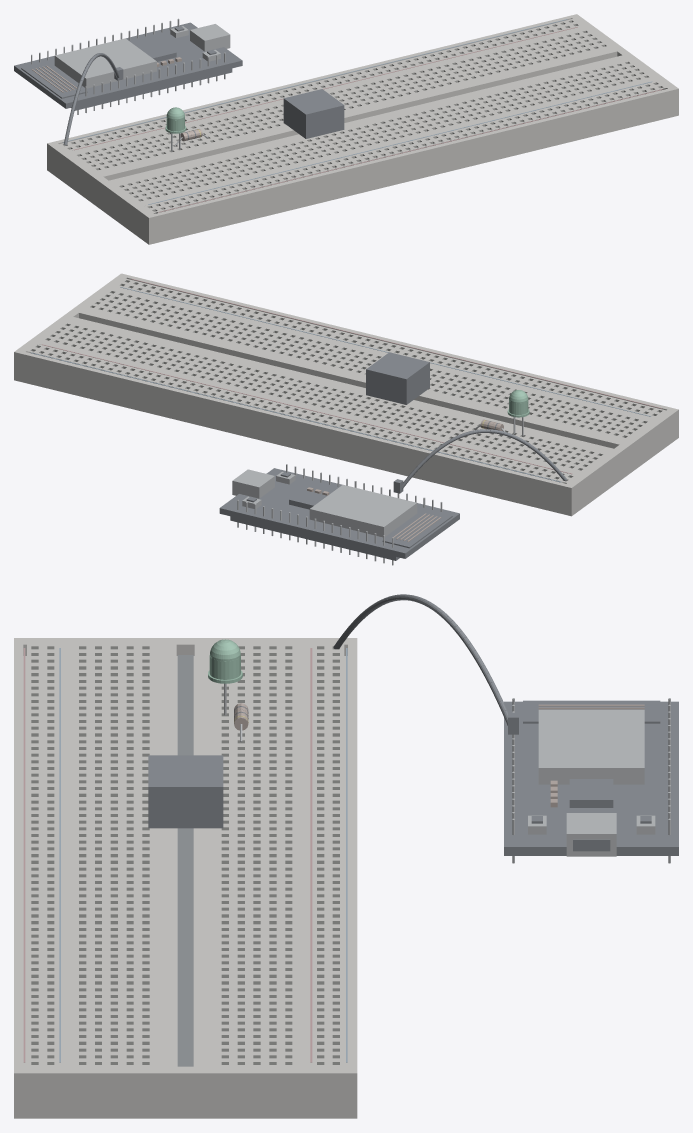
The model's file is step-5.glb.
The picture shows the model from 3 angles, top to bottom: view 1: azimuth 30°, elevation 25°; view 2: azimuth 150°, elevation 25°; view 3: azimuth 270°, elevation 25°; orthographic projection. The views are drawn at different scales.
Visible parts, largest first — view 1: breadboard__mesh, uno__mesh, button__mesh, ground_feed__mesh, green_led__mesh; view 2: breadboard__mesh, uno__mesh, button__mesh, ground_feed__mesh, green_led__mesh; view 3: breadboard__mesh, uno__mesh, button__mesh, ground_feed__mesh, green_led__mesh.
Part boxes in pixels (box(x1,y1,x2,y2)): breadboard__mesh: box(47, 14, 678, 244); uno__mesh: box(14, 18, 242, 114); button__mesh: box(283, 89, 344, 138); ground_feed__mesh: box(63, 53, 123, 145); green_led__mesh: box(165, 107, 186, 151); breadboard__mesh: box(14, 273, 678, 516); uno__mesh: box(219, 464, 459, 565); button__mesh: box(366, 352, 429, 404); ground_feed__mesh: box(393, 429, 566, 493); green_led__mesh: box(507, 390, 529, 436); breadboard__mesh: box(14, 638, 357, 1118); uno__mesh: box(504, 698, 678, 863); button__mesh: box(148, 755, 223, 828); ground_feed__mesh: box(333, 594, 518, 734); green_led__mesh: box(208, 639, 242, 715).
Bounding box in the file's own units: 0.165 × 0.0242 × 0.1065.
